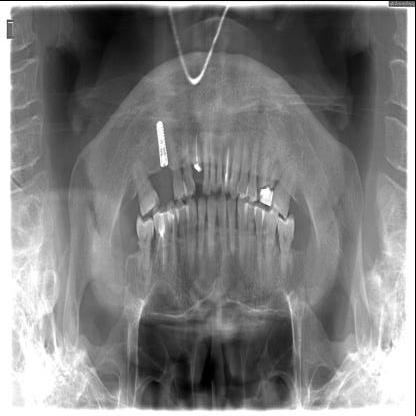ITI: (156, 119, 170, 167)
